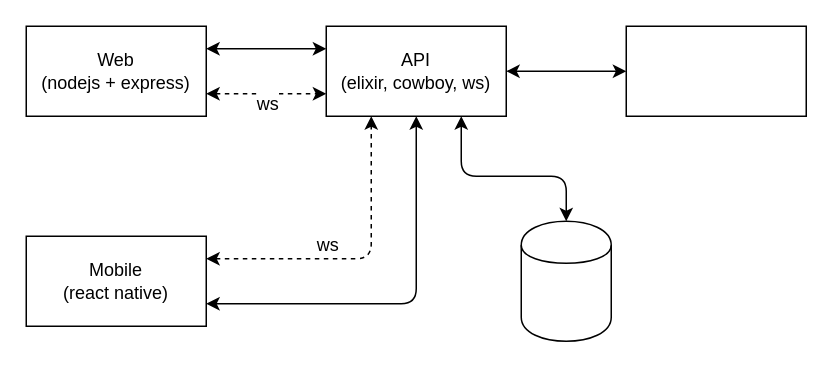
Image size: 833x368. Some labels were removed from this diagram. The centre of each missing label's shape, as x and y in pixels:
"Admin (electron, nodejs)" belongs at point (715, 70).
"DB (pg)" belongs at point (565, 280).
